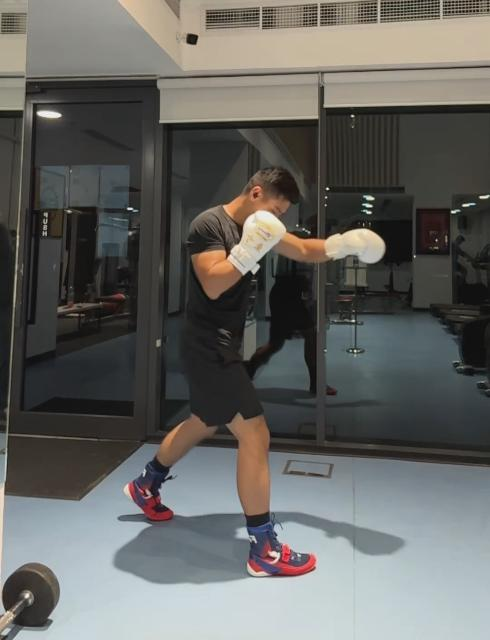punch: (121, 162, 384, 580)
